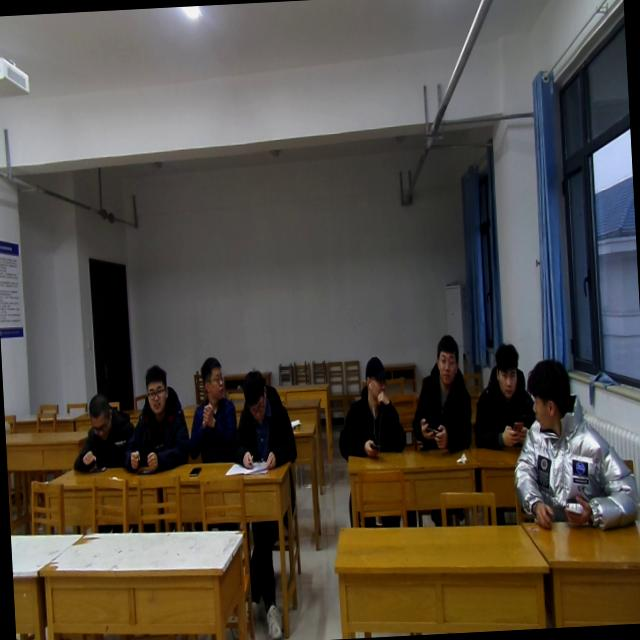bow: (71, 392, 141, 472)
down: (489, 339, 522, 402), (83, 384, 116, 446), (238, 368, 272, 427)
lookup: (431, 329, 464, 392), (141, 360, 172, 418)
sit: (509, 357, 640, 535), (405, 334, 476, 455), (334, 354, 410, 464), (120, 365, 193, 477), (472, 341, 542, 452), (229, 368, 299, 472), (182, 354, 242, 464)
